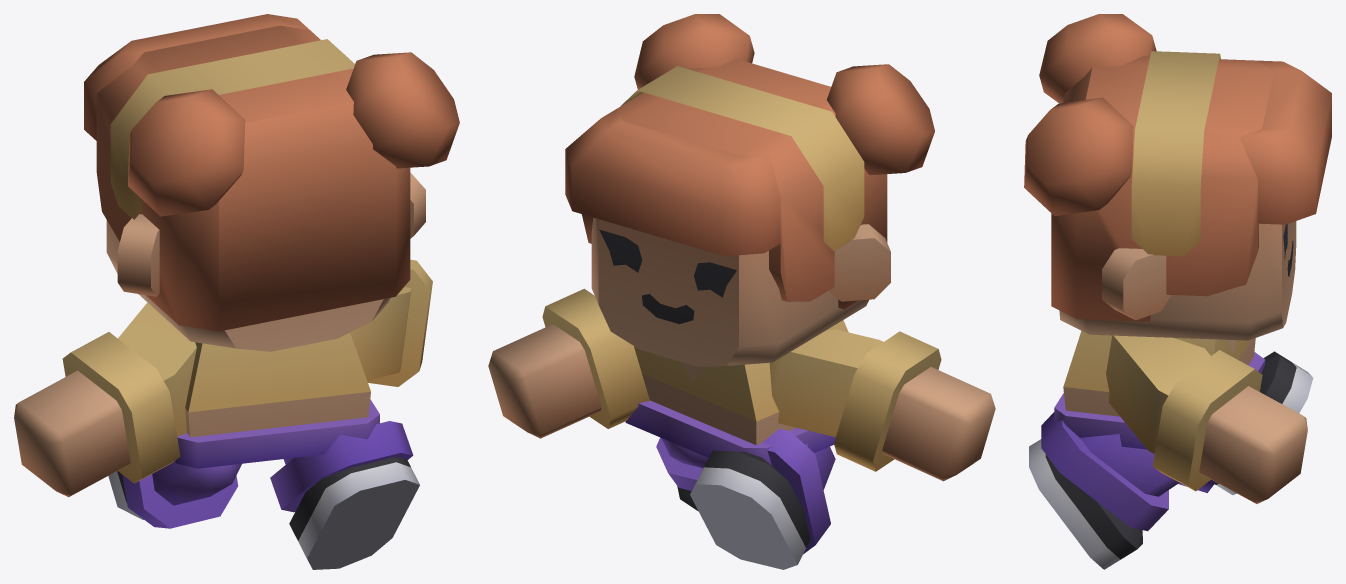
The model's file is hand_1_w1.fbx.
The picture shows the model from 3 angles, left to right: view 1: azimuth 30°, elevation 25°; view 2: azimuth 150°, elevation 25°; view 3: azimuth 270°, elevation 25°; orthographic projection. The views are drawn at different scales.
Parts seen in each view (by area): view 1: body-mesh; view 2: body-mesh; view 3: body-mesh.
Part boxes in pixels (x1,y1,x2,y2): body-mesh: (14,14,459,569); body-mesh: (488,14,995,569); body-mesh: (1024,14,1331,569).
Size of the model in its own units: 0.9254 by 1 by 0.5831.
